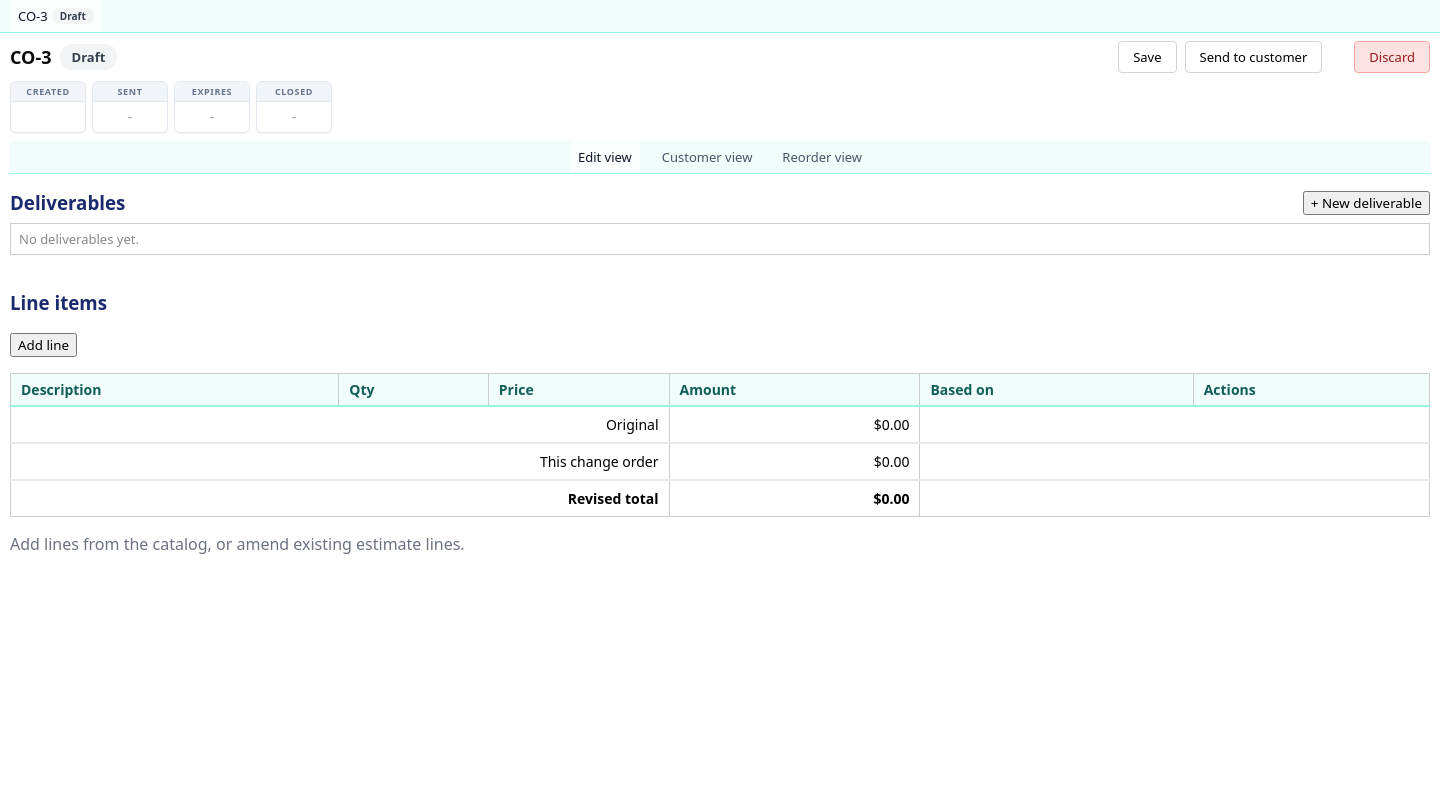
Test: ChangeOrderPanel mode bar › offers Edit / Customer / Reorder for a manageable draft CO, switches views in place, and remembers the choice under co:{id}
The image size is (1440, 810).
Expected: the heading "Line items" is shown, [10,290,107,315]
Expected: the button "Edit view" is shown, [570,141,640,173]
Click the button "Customer view": (707, 157) [654,141,760,173]
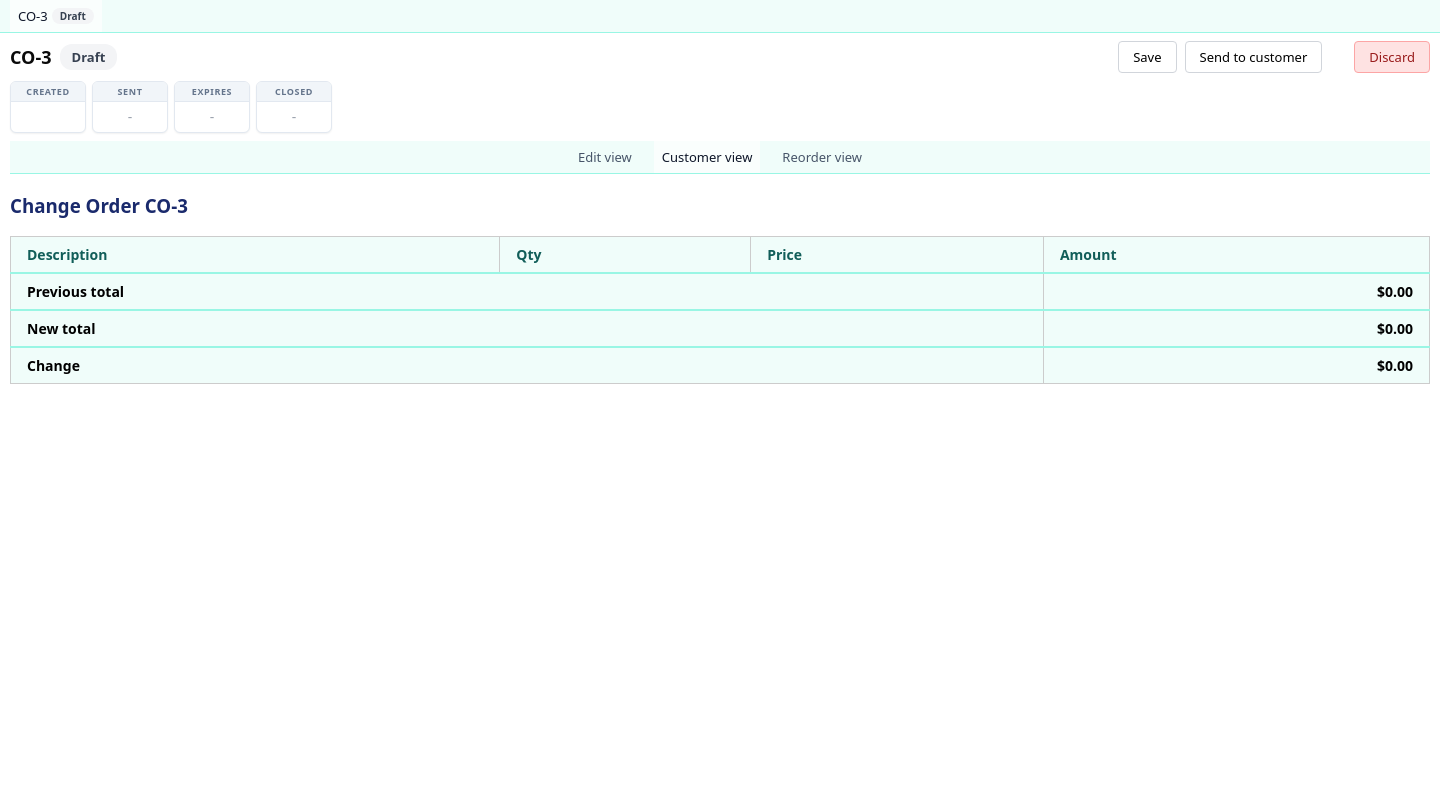
Now the heading "Change Order CO-3" is shown, box [10,193,188,218]
Click the button "Edit view": (605, 157) [570,141,640,173]
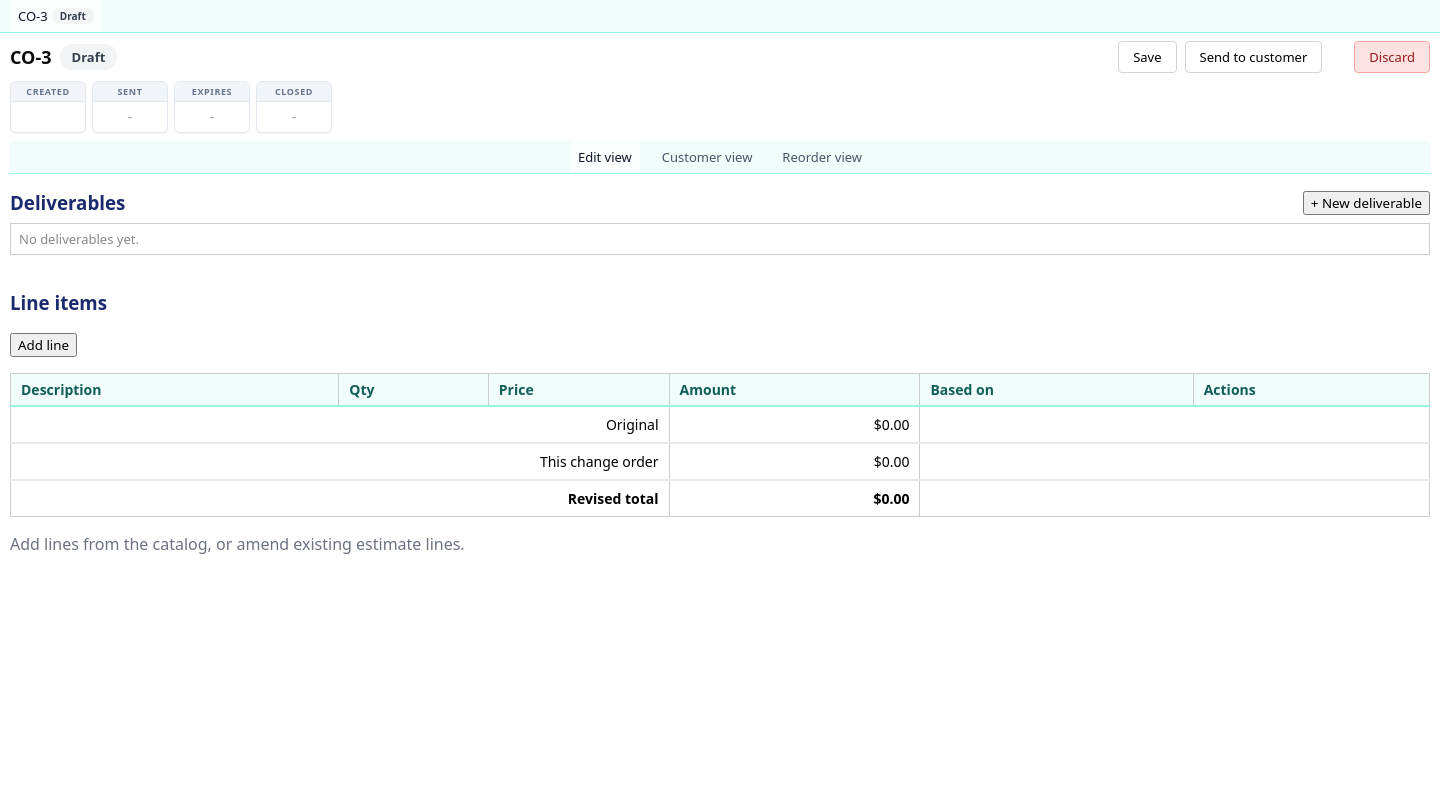
Now the heading "Line items" is shown, box [10,290,107,315]
